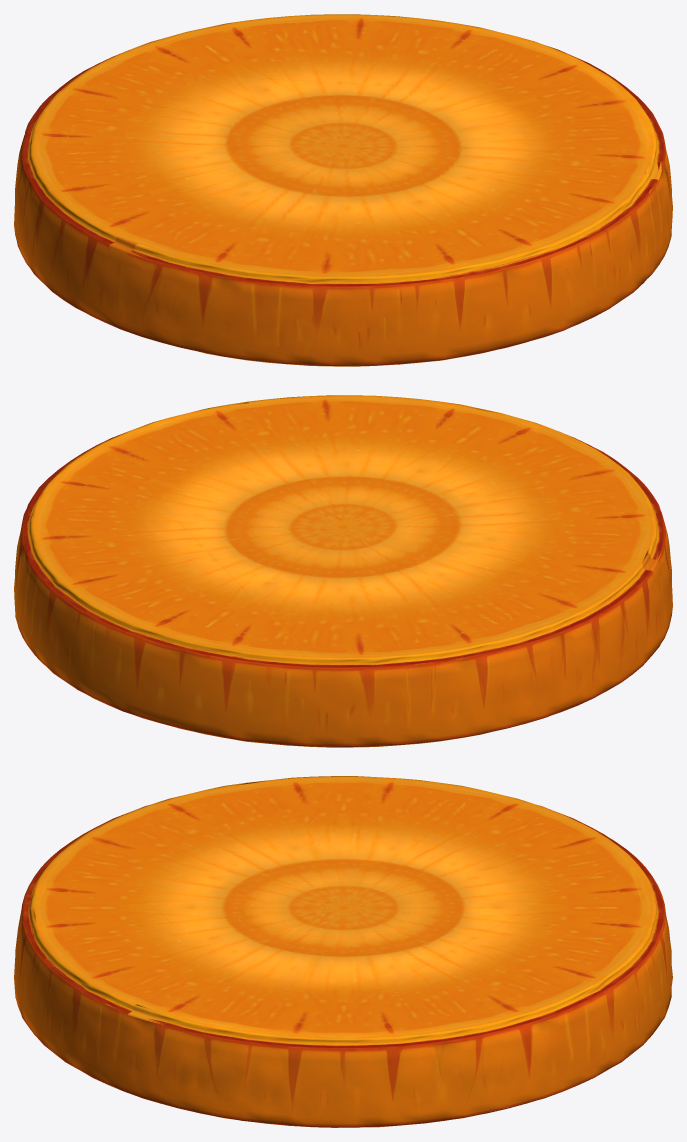
The model's file is carrot_slice.fbx.
3 renders of one model, top to bottom at view 1: azimuth 30°, elevation 25°; view 2: azimuth 150°, elevation 25°; view 3: azimuth 270°, elevation 25°, orthographic.
Parts seen in each view (by area): view 1: carrot slice; view 2: carrot slice; view 3: carrot slice.
Boxes of the visible parts, x1,y1,x2,y2 form: carrot slice: (14,14,672,366); carrot slice: (14,395,672,747); carrot slice: (14,776,672,1127).
Bounding box in the file's own units: 38.12 × 5.56 × 38.12.
1 material, 1 textured.
